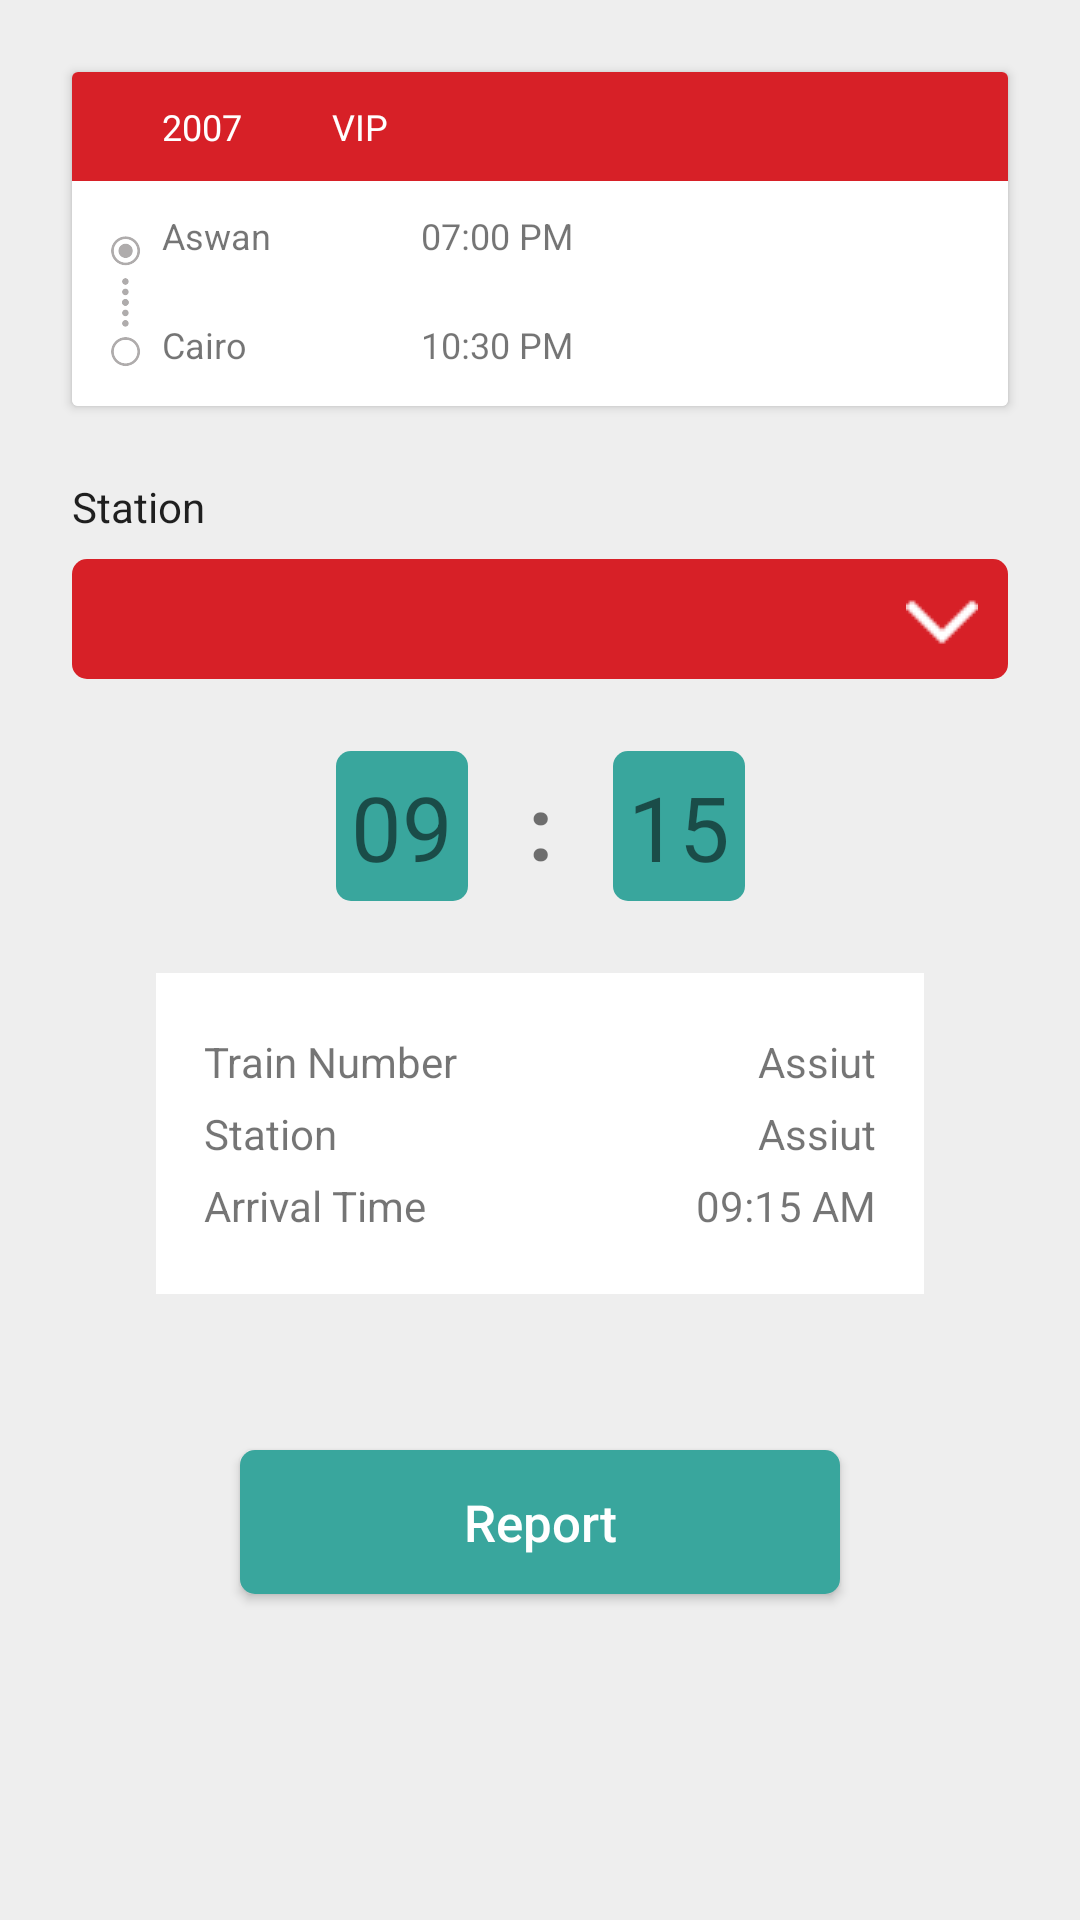

Icons on this 1080*1920 Android screen, each with the point to tap as (x=x, y=y):
Route: (x=125, y=301)
